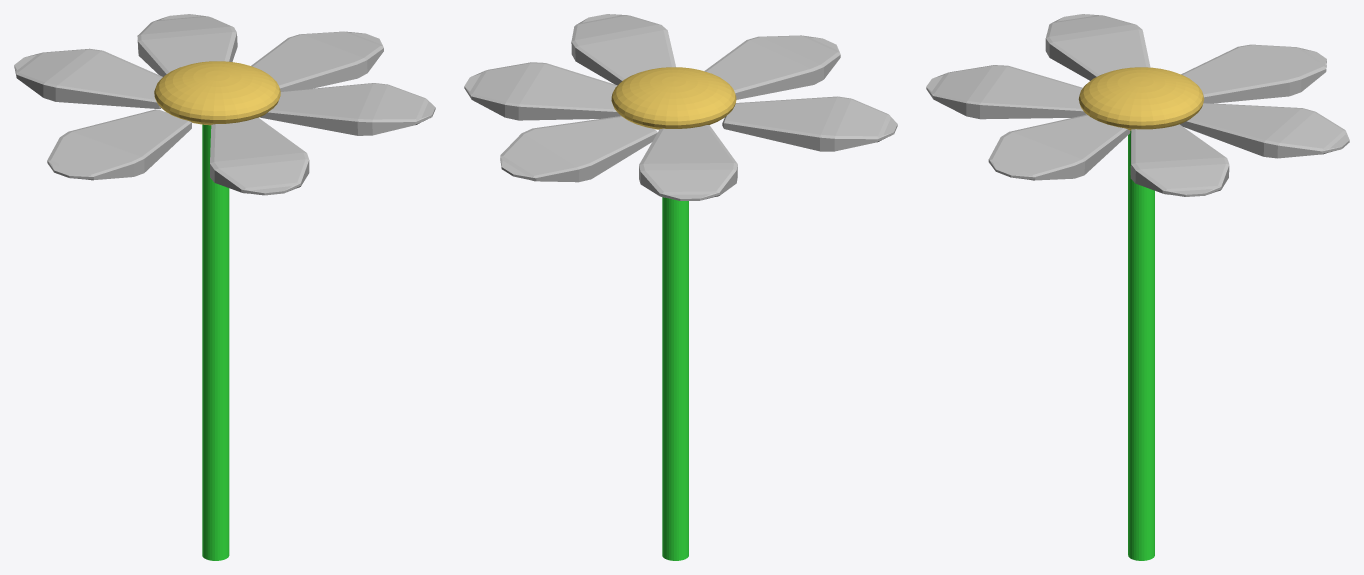
File: Flower_Spin2.glb
3 renders of one model, left to right at view 1: azimuth 30°, elevation 25°; view 2: azimuth 150°, elevation 25°; view 3: azimuth 270°, elevation 25°, orthographic.
Visible parts, largest first — view 1: Cylinder, Cube.006, Cube.001, Cube.004, Sphere, Cube.002, Cube.005, Cube.003; view 2: Cylinder, Cube.003, Cube.006, Cube.005, Sphere, Cube.001, Cube.002, Cube.004; view 3: Cylinder, Cube.002, Cube.003, Cube.004, Sphere, Cube.001, Cube.005, Cube.006.
Boxes of the visible parts, x1=… form: Cylinder: x1=202, y1=124, x2=229, y2=560; Cube.006: x1=47, y1=109, x2=191, y2=180; Cube.001: x1=14, y1=48, x2=162, y2=108; Cube.004: x1=260, y1=83, x2=435, y2=135; Sphere: x1=154, y1=61, x2=280, y2=125; Cube.002: x1=210, y1=117, x2=309, y2=195; Cube.005: x1=251, y1=31, x2=383, y2=91; Cube.003: x1=137, y1=14, x2=237, y2=76; Cylinder: x1=662, y1=197, x2=688, y2=560; Cube.003: x1=500, y1=116, x2=657, y2=182; Cube.006: x1=722, y1=96, x2=897, y2=151; Cube.005: x1=464, y1=62, x2=620, y2=120; Sphere: x1=611, y1=67, x2=736, y2=129; Cube.001: x1=639, y1=125, x2=737, y2=200; Cube.002: x1=704, y1=35, x2=840, y2=99; Cube.004: x1=571, y1=14, x2=675, y2=85; Cylinder: x1=1128, y1=130, x2=1154, y2=560; Cube.002: x1=926, y1=65, x2=1086, y2=119; Cube.003: x1=1180, y1=103, x2=1349, y2=158; Cube.004: x1=988, y1=114, x2=1130, y2=180; Sphere: x1=1078, y1=67, x2=1204, y2=130; Cube.001: x1=1181, y1=44, x2=1326, y2=103; Cube.005: x1=1130, y1=124, x2=1229, y2=196; Cube.006: x1=1045, y1=14, x2=1150, y2=80.
Bounding box in the file's own units: 1.65 × 2 × 1.62.
